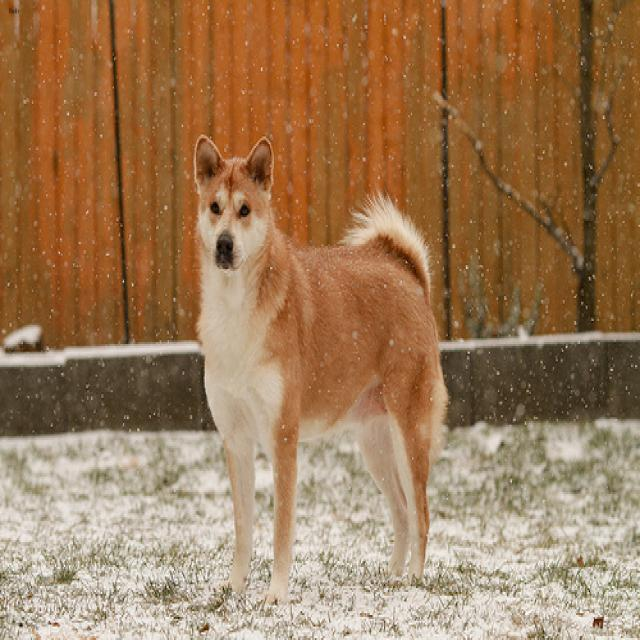dog-shiba_inu: (184, 123, 452, 617)
